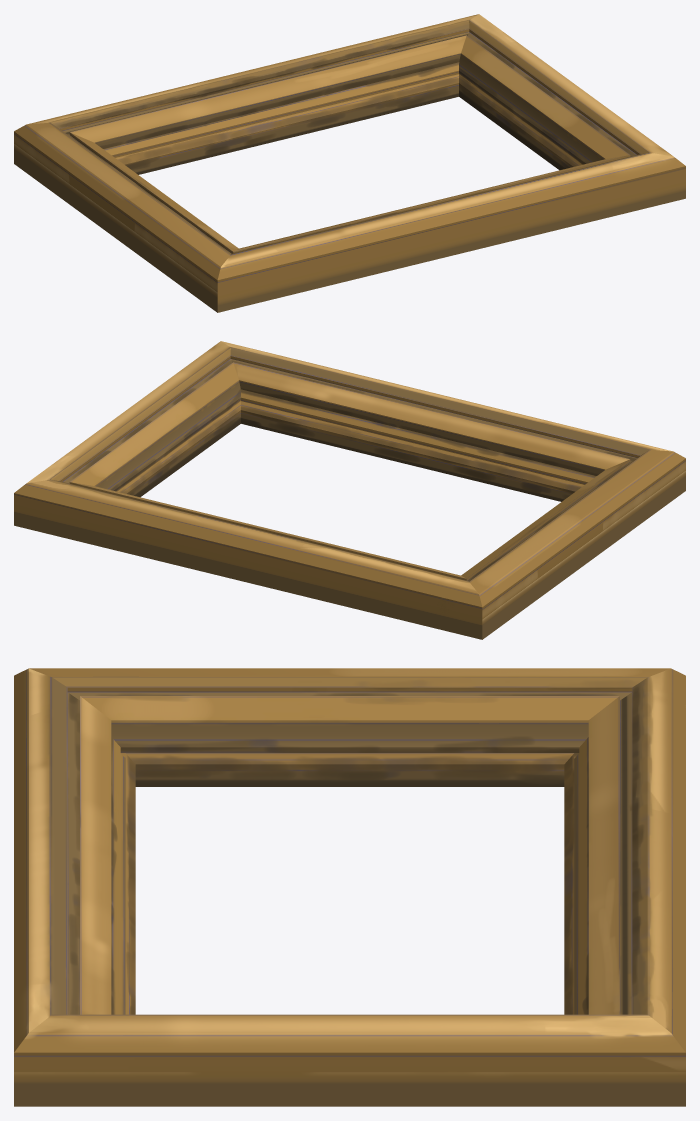
The model's file is photoframe_test.fbx.
3 renders of one model, top to bottom at view 1: azimuth 30°, elevation 25°; view 2: azimuth 150°, elevation 25°; view 3: azimuth 270°, elevation 25°, orthographic. The views are drawn at different scales.
Visible parts, largest first — view 1: photoframe; view 2: photoframe; view 3: photoframe.
Part boxes in pixels (x1,y1,x2,y2): photoframe: [14, 14, 685, 312]; photoframe: [14, 341, 685, 639]; photoframe: [14, 668, 685, 1106].
Size of the model in its own units: 374 by 37.52 by 282.
